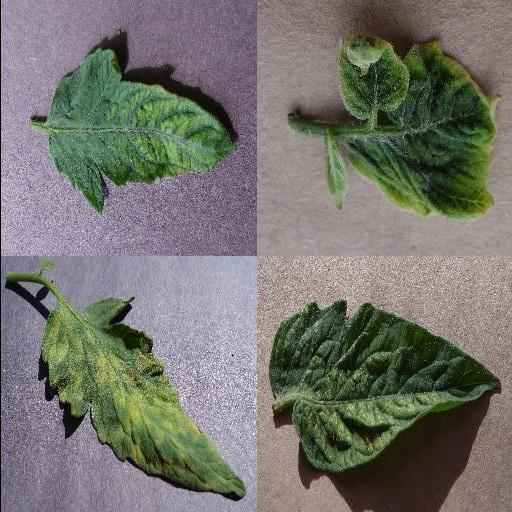Leaf Mold: (39, 298, 245, 496)
Mosaic Virus: (46, 47, 238, 213)
Spider Mites: (269, 301, 501, 471)
Yellow Leaf Curl Virus: (337, 36, 501, 220)
